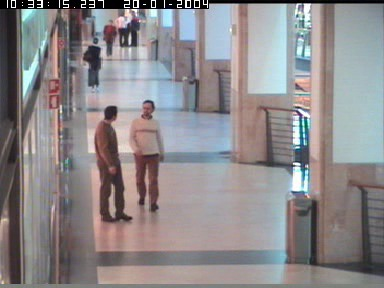person: (94, 105, 132, 223), (128, 100, 163, 212), (80, 37, 102, 93), (103, 18, 117, 55), (116, 11, 128, 47), (130, 12, 140, 47)
